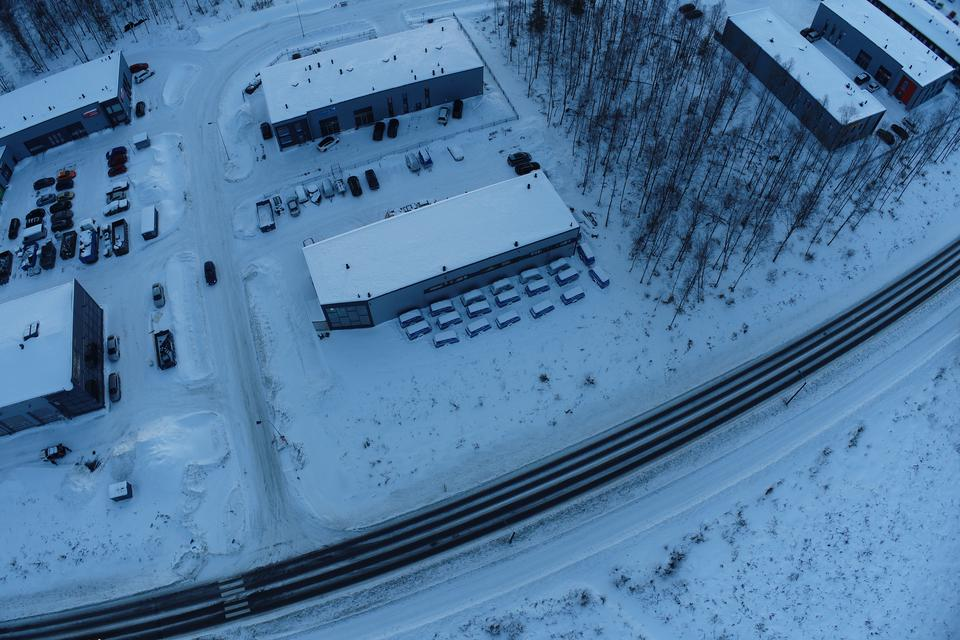intersection: (204, 504, 356, 635)
